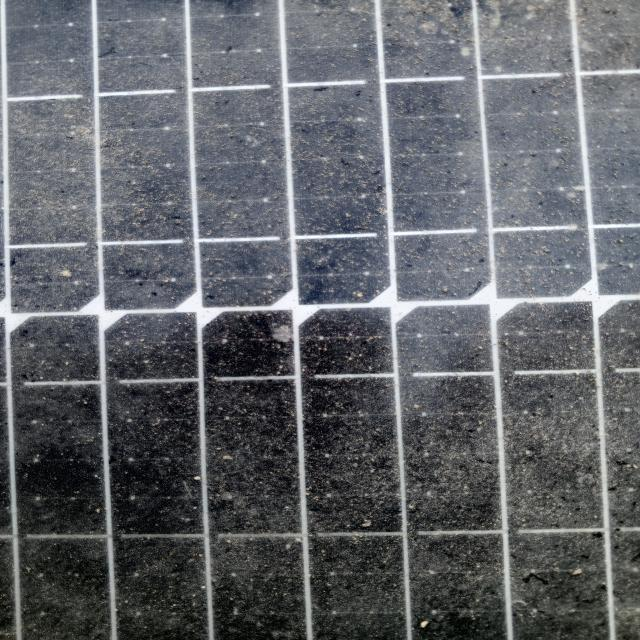Surface Contaminant: (48, 36, 610, 608)
